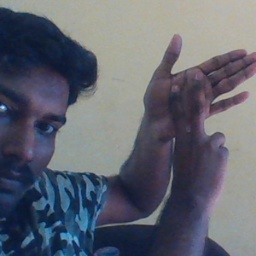N: (138, 31, 256, 169)
